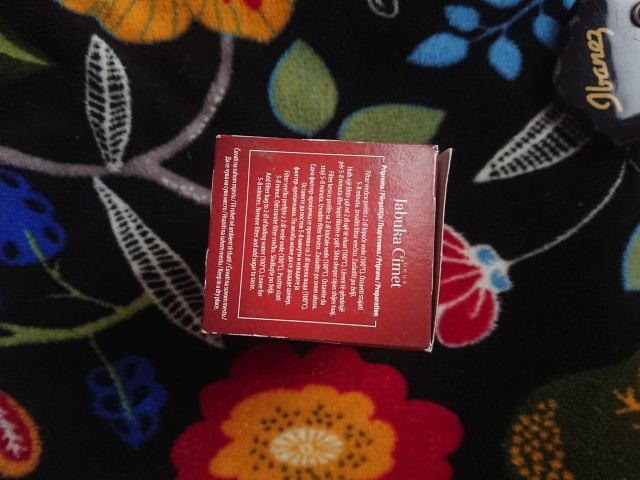Franck Apple Cinnamon Tea 60g: (199, 133, 454, 354)
